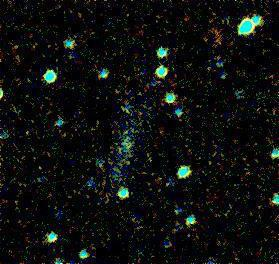star: (202, 25, 232, 55)
